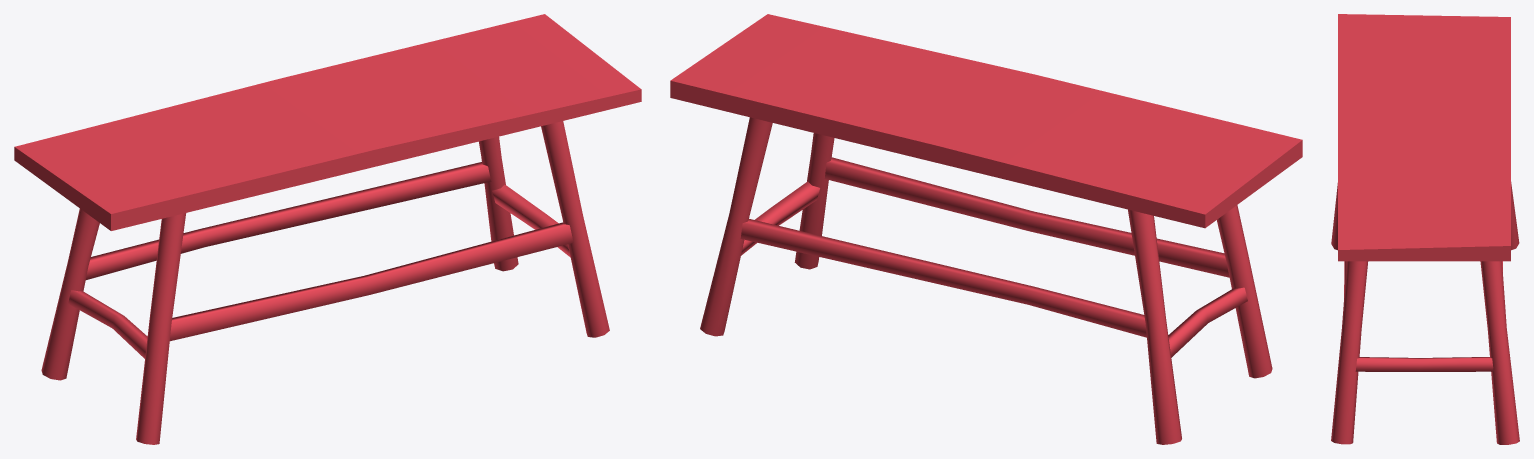
Rendered from Table_M.fbx.
3 views of the same model, side by side, from view 1: azimuth 30°, elevation 25°; view 2: azimuth 150°, elevation 25°; view 3: azimuth 270°, elevation 25° (orthographic). The views are drawn at different scales.
Visible parts, largest first — view 1: Table_LOD0; view 2: Table_LOD0; view 3: Table_LOD0.
Boxes of the visible parts, x1,y1,x2,y2 form: Table_LOD0: (14, 14, 641, 444); Table_LOD0: (670, 14, 1302, 444); Table_LOD0: (1331, 14, 1519, 444).
Size of what is drawn, in the model's own units: 208 by 90.29 by 71.48.
